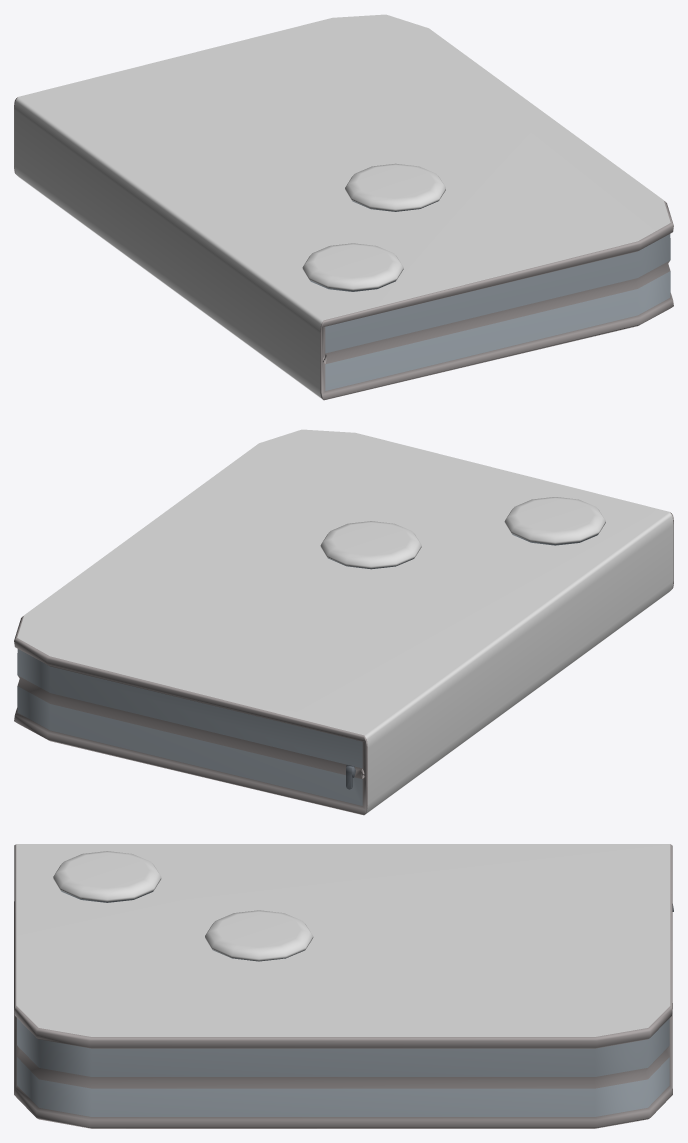
File: FlacheFedertaschePins.fbx
3 renders of one model, top to bottom at view 1: azimuth 30°, elevation 25°; view 2: azimuth 150°, elevation 25°; view 3: azimuth 270°, elevation 25°, orthographic. The views are drawn at different scales.
Parts seen in each view (by area): view 1: Flache Federtasche Pins; view 2: Flache Federtasche Pins; view 3: Flache Federtasche Pins.
Boxes of the visible parts, x1,y1,x2,y2 form: Flache Federtasche Pins: (14, 14, 673, 400); Flache Federtasche Pins: (14, 429, 673, 815); Flache Federtasche Pins: (14, 844, 673, 1128).
Size of the model in its own units: 16.79 by 3.92 by 23.51.
